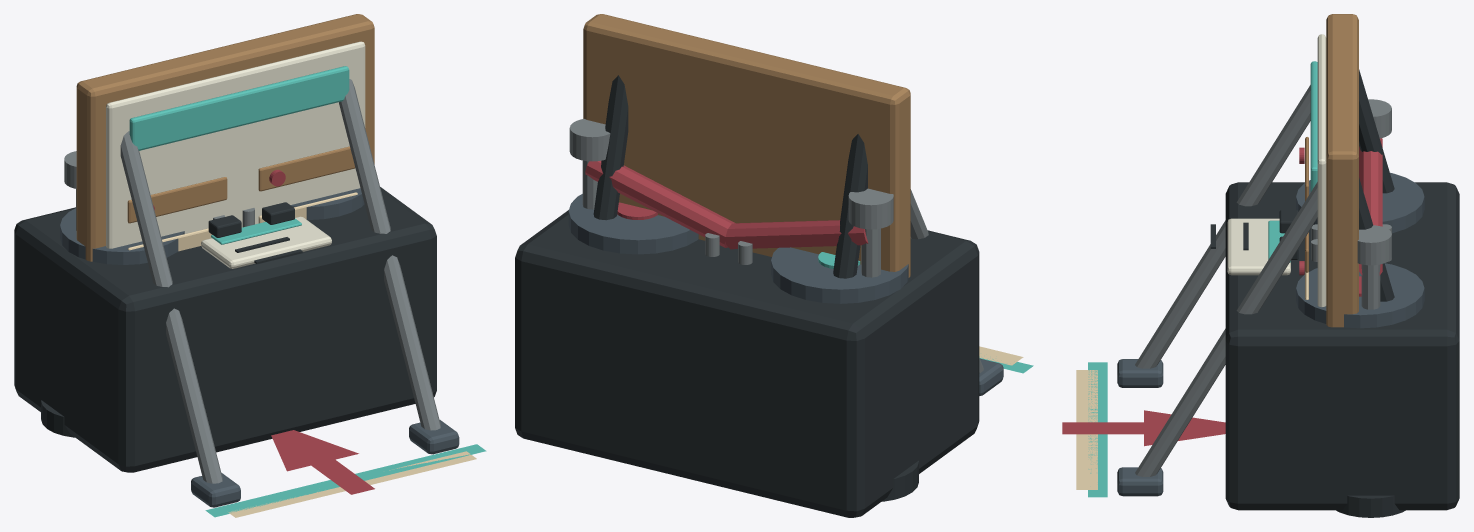
The model's file is city-guide-club.glb.
The picture shows the model from 3 angles, left to right: view 1: azimuth 30°, elevation 25°; view 2: azimuth 150°, elevation 25°; view 3: azimuth 270°, elevation 25°; orthographic projection. The views are drawn at different scales.
Visible parts, largest first — view 1: Black binder clip.005, Magnetic result board paper, Magnetic result board backing, Folded support.004, Front of viewing line, Scratch deck, Arrow stencil.001, Club cue sheet, Rubber foot.004, Club set line, Movable score strips.002, Ink band.007 (+1 smaller); view 2: Black binder clip.005, Magnetic result board backing, Scratch deck, Arrow stencil.001, Rear leg.001, Black queue barrier, Queue barrier foot, Mixer knob, Rubber foot.004, Folded support.004; view 3: Black binder clip.005, Folded support.004, Magnetic result board backing, Scratch deck, Arrow stencil.001, Black queue barrier, Front of viewing line, Magnetic result board paper, Club set line, Club cue sheet, Rubber foot.004, Rear leg.001 (+1 smaller).
Part boxes in pixels (x1,y1,x2,y2): Black binder clip.005: [14, 187, 436, 472]; Magnetic result board paper: [106, 41, 365, 248]; Magnetic result board backing: [76, 14, 374, 261]; Folded support.004: [120, 79, 440, 483]; Front of viewing line: [129, 66, 486, 517]; Scratch deck: [60, 188, 364, 264]; Arrow stencil.001: [271, 430, 374, 494]; Club cue sheet: [201, 216, 331, 268]; Rubber foot.004: [191, 420, 459, 507]; Club set line: [228, 451, 476, 517]; Movable score strips.002: [127, 192, 357, 251]; Ink band.007: [211, 218, 301, 244]; Black binder clip.005: [515, 210, 979, 517]; Magnetic result board backing: [583, 14, 910, 277]; Scratch deck: [568, 194, 908, 303]; Arrow stencil.001: [585, 160, 868, 249]; Rear leg.001: [593, 75, 867, 278]; Black queue barrier: [569, 119, 893, 277]; Queue barrier foot: [882, 460, 918, 501]; Mixer knob: [705, 233, 752, 264]; Rubber foot.004: [979, 358, 1003, 395]; Folded support.004: [910, 189, 983, 373]; Black binder clip.005: [1210, 182, 1459, 510]; Folded support.004: [1135, 85, 1317, 476]; Magnetic result board backing: [1305, 14, 1358, 327]; Scratch deck: [1296, 172, 1424, 328]; Arrow stencil.001: [1062, 138, 1382, 446]; Black queue barrier: [1357, 99, 1391, 309]; Front of viewing line: [1088, 61, 1317, 497]; Magnetic result board paper: [1317, 34, 1326, 306]; Club set line: [1076, 370, 1097, 489]; Club cue sheet: [1227, 218, 1290, 275]; Rubber foot.004: [1117, 359, 1163, 496]; Rear leg.001: [1359, 69, 1394, 301].
Size of the model in its own units: 1.09 by 1.1 by 1.12.
